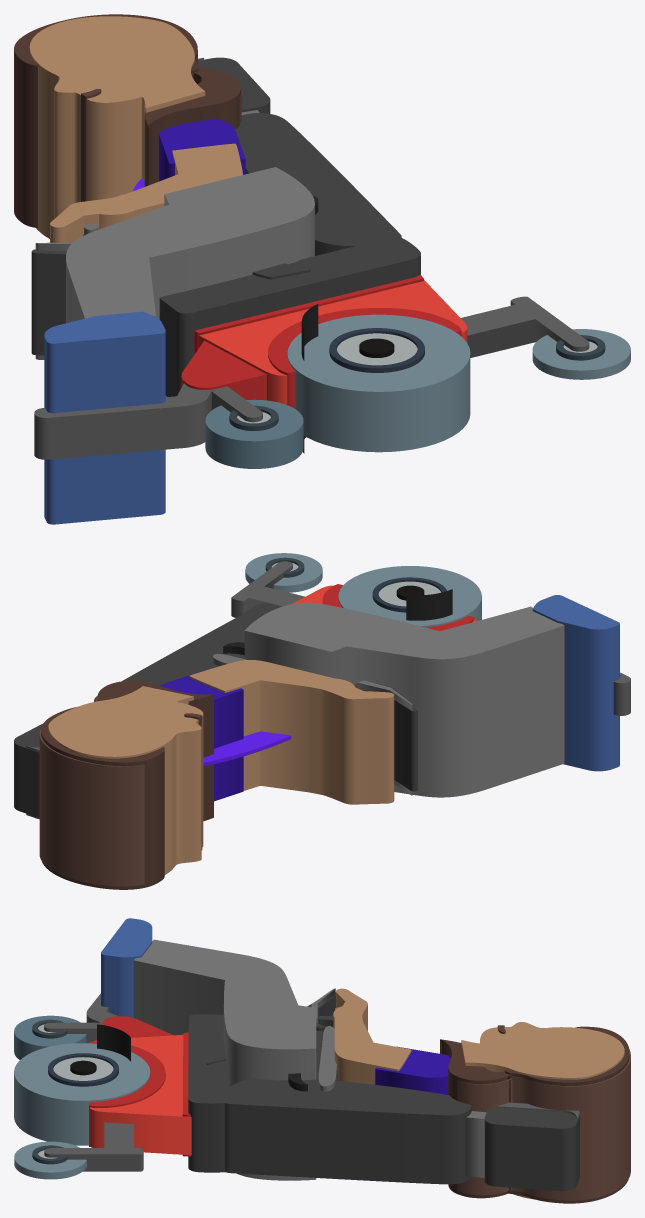
File: emoji_u1f469_1f3fd_200d_1f9bc.glb
3 renders of one model, top to bottom at view 1: azimuth 30°, elevation 25°; view 2: azimuth 150°, elevation 25°; view 3: azimuth 270°, elevation 25°, orthographic. The views are drawn at different scales.
Visible parts, largest first — view 1: emoji_u1f469_1f3fd_200d_1f9bc; view 2: emoji_u1f469_1f3fd_200d_1f9bc; view 3: emoji_u1f469_1f3fd_200d_1f9bc.
Part boxes in pixels (x1,y1,x2,y2): emoji_u1f469_1f3fd_200d_1f9bc: [14, 14, 630, 524]; emoji_u1f469_1f3fd_200d_1f9bc: [14, 553, 630, 889]; emoji_u1f469_1f3fd_200d_1f9bc: [14, 918, 630, 1203].
Bounding box in the file's own units: 0.0242 × 0.0078 × 0.0324.
